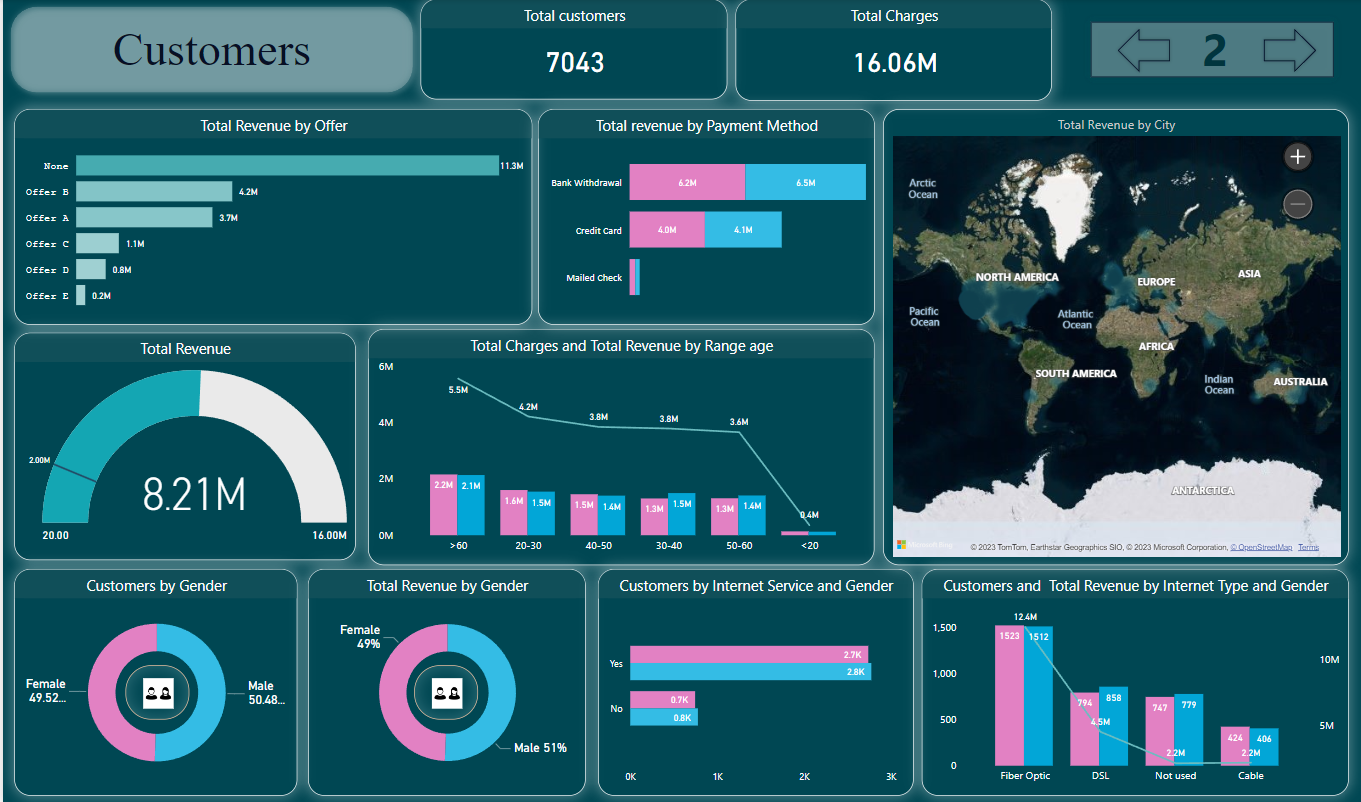

Layout of this report page (visuals, bound fields, positions):
{"tool":"powerbi","page":{"name":"Customers","canvas":[1600,950],"ordinal":2},"visuals":[{"type":"shape","box":[0,0,492.4,119.1],"z":0},{"type":"card","title":"Total customers","fields":{"Values":["Count(customer_churn.Customer ID)"]},"box":[491.8,0,361.8,118.8],"z":1000},{"type":"gauge","title":"Total Revenue","fields":{"Y":["Avg(customer_churn.Total Revenue)"]},"box":[14,393.6,402.4,268.2],"z":2000},{"type":"card","title":"Total Charges","fields":{"Values":["Sum(customer_churn.Total Charges)"]},"box":[863.4,0,373,120.1],"z":3000},{"type":"lineClusteredColumnComboChart","title":"Total Charges and Total Revenue by Range age","fields":{"Y":["Sum(customer_churn.Total Charges)"],"Series":["customer_churn.Gender"],"Category":["customer_churn.Range ave"],"Y2":["Sum(customer_churn.Total Revenue)"]},"box":[430.3,389.1,596.5,278],"z":4000},{"type":"donutChart","title":"Customers by Gender","fields":{"Category":["customer_churn.Gender"],"Y":["Count(customer_churn.Customer ID)"]},"box":[14,672,333.9,266.8],"z":5000},{"type":"donutChart","title":"Total Revenue by Gender","fields":{"Category":["customer_churn.Gender"],"Y":["Sum(customer_churn.Total Revenue)"]},"box":[359,672,326.9,266.8],"z":6000},{"type":"clusteredBarChart","title":"Customers by Internet Service and Gender","fields":{"Category":["customer_churn.Internet Service"],"Series":["customer_churn.Gender"],"Y":["Count(customer_churn.Customer ID)"]},"box":[701.3,672,371.6,266.8],"z":7000},{"type":"lineClusteredColumnComboChart","title":"Customers and  Total Revenue by Internet Type and Gender","fields":{"Category":["customer_churn.Internet Type"],"Series":["customer_churn.Gender"],"Y":["Count(customer_churn.Customer ID)"],"Y2":["Sum(customer_churn.Total Revenue)"]},"box":[1082.7,672,502.9,266.8],"z":8000},{"type":"barChart","title":" Total Revenue by Offer","fields":{"Category":["customer_churn.Offer"],"Y":["Sum(customer_churn.Total Revenue)"]},"box":[14,129.2,610.5,254.3],"z":9000},{"type":"barChart","title":"Total revenue by Payment Method","fields":{"Y":["Sum(customer_churn.Total Revenue)"],"Category":["customer_churn.Payment Method"],"Series":["customer_churn.Gender"]},"box":[630.1,129.9,396.8,254.3],"z":10000},{"type":"map","title":"Total Revenue by City","fields":{"Category":["customer_churn.City"],"X":["CountNonNull(customer_churn.Customer ID)"]},"box":[1036.6,129.9,549,537.9],"z":11000},{"type":"shape","box":[1269.9,15.4,310.1,89.4],"z":12000},{"type":"textbox","box":[1379.2,16.6,103.1,95.9],"z":13000},{"type":"shape","box":[1482.3,31.2,69.7,59.6],"z":14000},{"type":"shape","box":[1309.4,31.2,69.7,59.6],"z":15000},{"type":"image","box":[143.9,785.1,75.4,64.3],"z":16000},{"type":"image","box":[484.8,785.1,75.4,64.3],"z":17000}]}

Visuals, with their boxes in screenshot pixels (x1, y1, x2, y2), scaled from the page's 1600x950 canvas onto the 1361x802 screenshot:
shape: select_region(0, 0, 419, 101)
"Total customers" card: select_region(418, 0, 726, 100)
"Total Revenue" gauge: select_region(12, 332, 354, 559)
"Total Charges" card: select_region(734, 0, 1052, 101)
"Total Charges and Total Revenue by Range age" lineClusteredColumnComboChart: select_region(366, 328, 873, 563)
"Customers by Gender" donutChart: select_region(12, 567, 296, 793)
"Total Revenue by Gender" donutChart: select_region(305, 567, 583, 793)
"Customers by Internet Service and Gender" clusteredBarChart: select_region(597, 567, 913, 793)
"Customers and  Total Revenue by Internet Type and Gender" lineClusteredColumnComboChart: select_region(921, 567, 1349, 793)
" Total Revenue by Offer" barChart: select_region(12, 109, 531, 324)
"Total revenue by Payment Method" barChart: select_region(536, 110, 874, 324)
"Total Revenue by City" map: select_region(882, 110, 1349, 564)
shape: select_region(1080, 13, 1344, 88)
textbox: select_region(1173, 14, 1261, 95)
shape: select_region(1261, 26, 1320, 77)
shape: select_region(1114, 26, 1173, 77)
image: select_region(122, 663, 187, 717)
image: select_region(412, 663, 477, 717)
